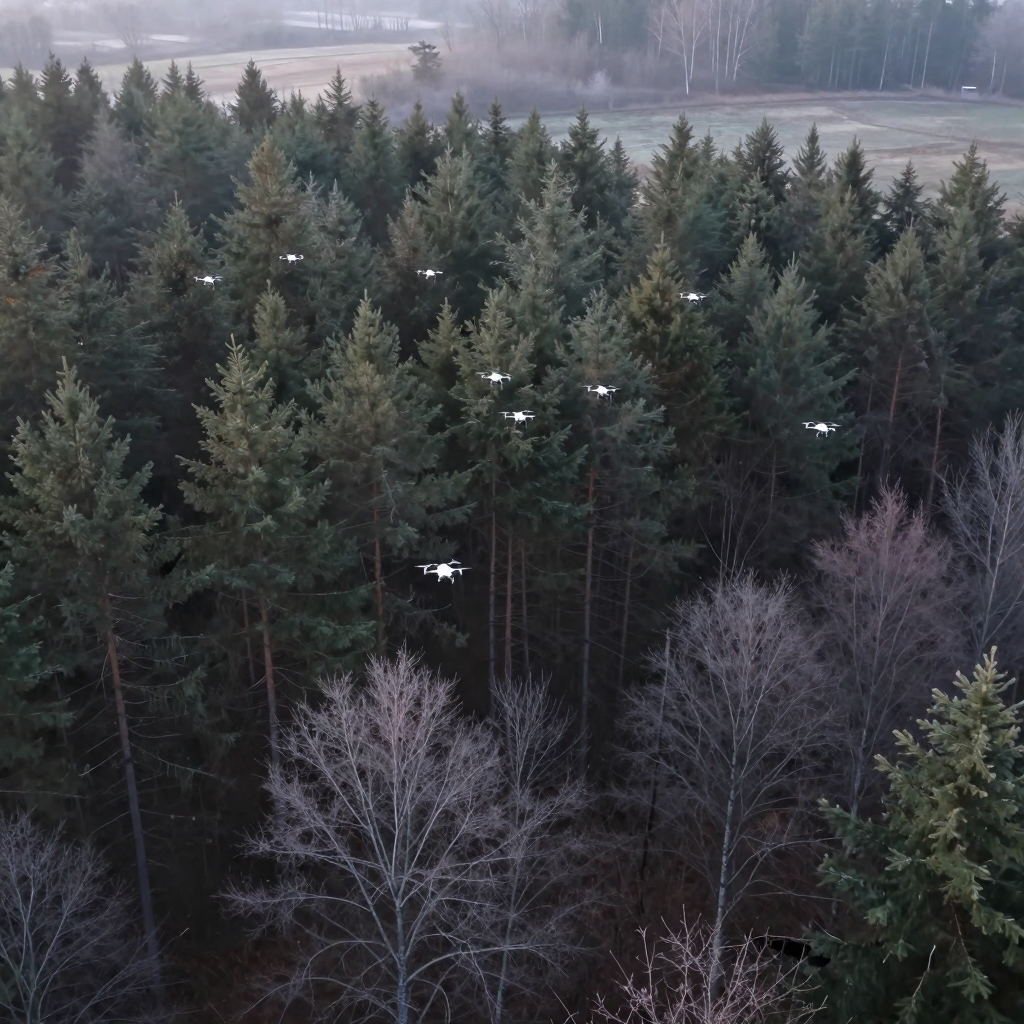drone: (414, 559, 473, 584), (185, 269, 227, 291), (498, 408, 537, 428), (414, 264, 449, 285), (583, 384, 621, 403), (802, 422, 842, 438), (279, 250, 314, 267), (480, 369, 513, 387), (679, 290, 711, 308)
